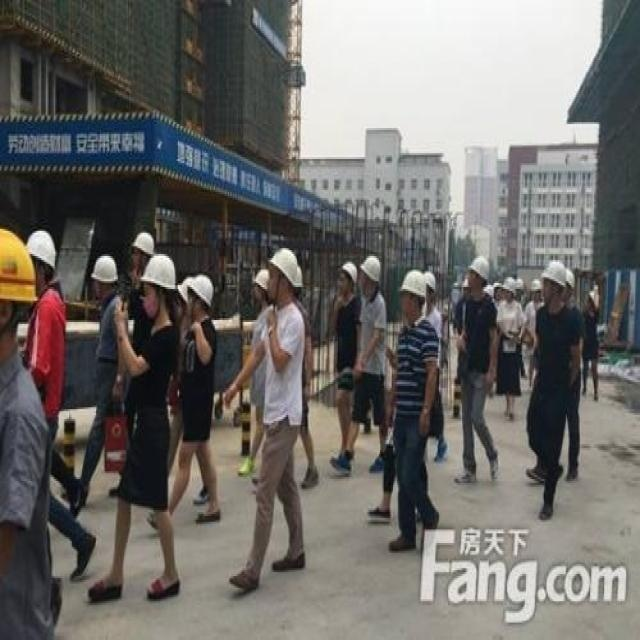Con_Casco: (142, 257, 178, 317)
